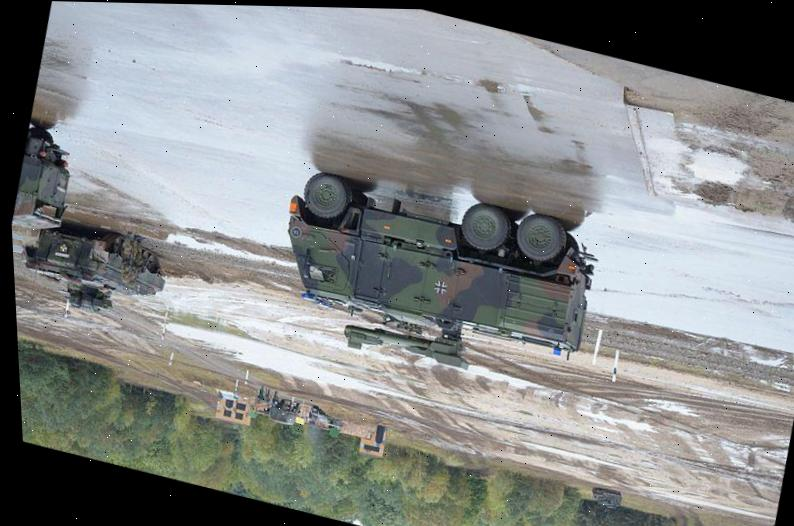car: (307, 402, 345, 429)
person: (112, 219, 145, 290), (123, 229, 153, 292), (260, 382, 272, 405), (268, 386, 280, 408), (253, 383, 265, 402)
tank: (11, 206, 175, 331)
truck: (255, 149, 613, 405), (6, 122, 83, 239), (263, 393, 303, 429)
